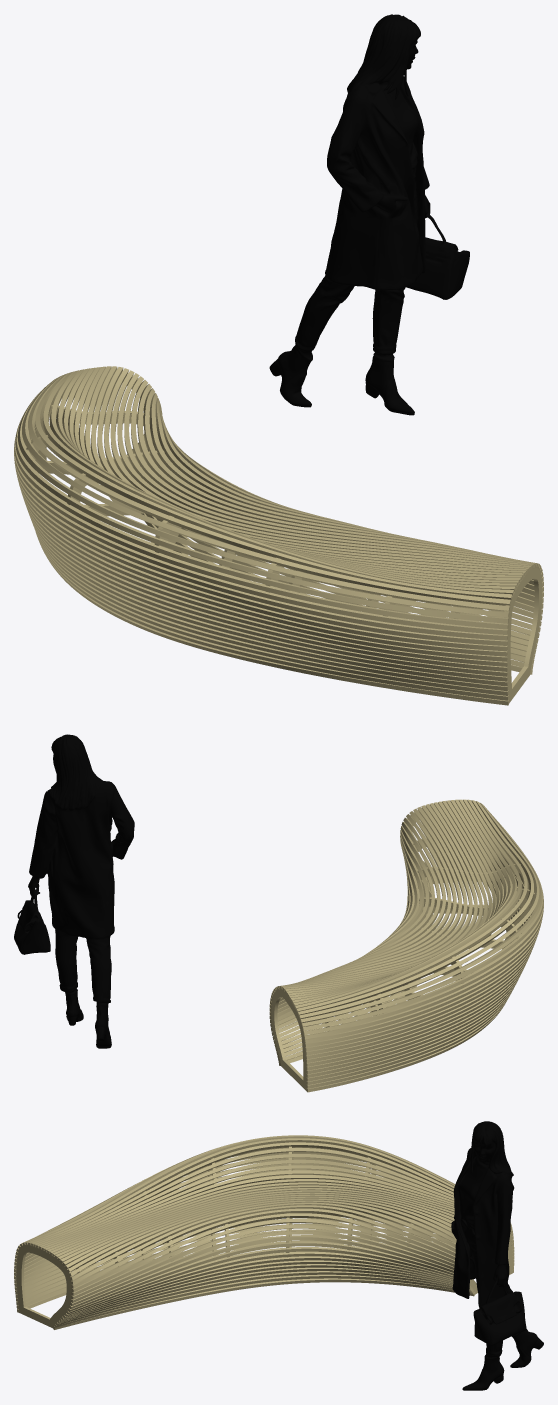
File: lath-bench.glb
The picture shows the model from 3 angles, top to bottom: view 1: azimuth 30°, elevation 25°; view 2: azimuth 150°, elevation 25°; view 3: azimuth 270°, elevation 25°; orthographic projection. The views are drawn at different scales.
Visible parts, largest first — view 1: object 2, Marina_1276_COR; view 2: object 2, Marina_1276_COR; view 3: object 2, Marina_1276_COR.
Boxes of the visible parts, box(x1,y1,x2,y2) form: object 2: box(14, 366, 543, 705); Marina_1276_COR: box(269, 14, 469, 415); object 2: box(269, 799, 543, 1092); Marina_1276_COR: box(14, 734, 134, 1048); object 2: box(14, 1135, 514, 1329); Marina_1276_COR: box(451, 1121, 543, 1390).
Bounding box in the file's own units: 2.57 × 1.75 × 3.15.
